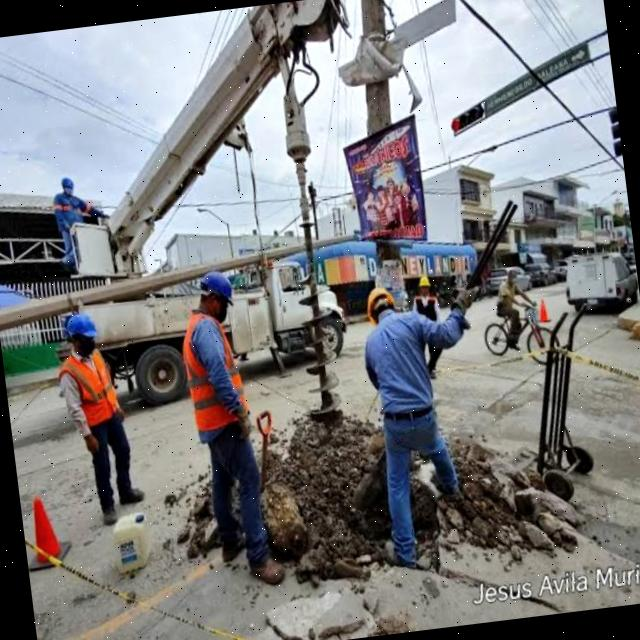Broken Pole: (0, 229, 360, 331)
